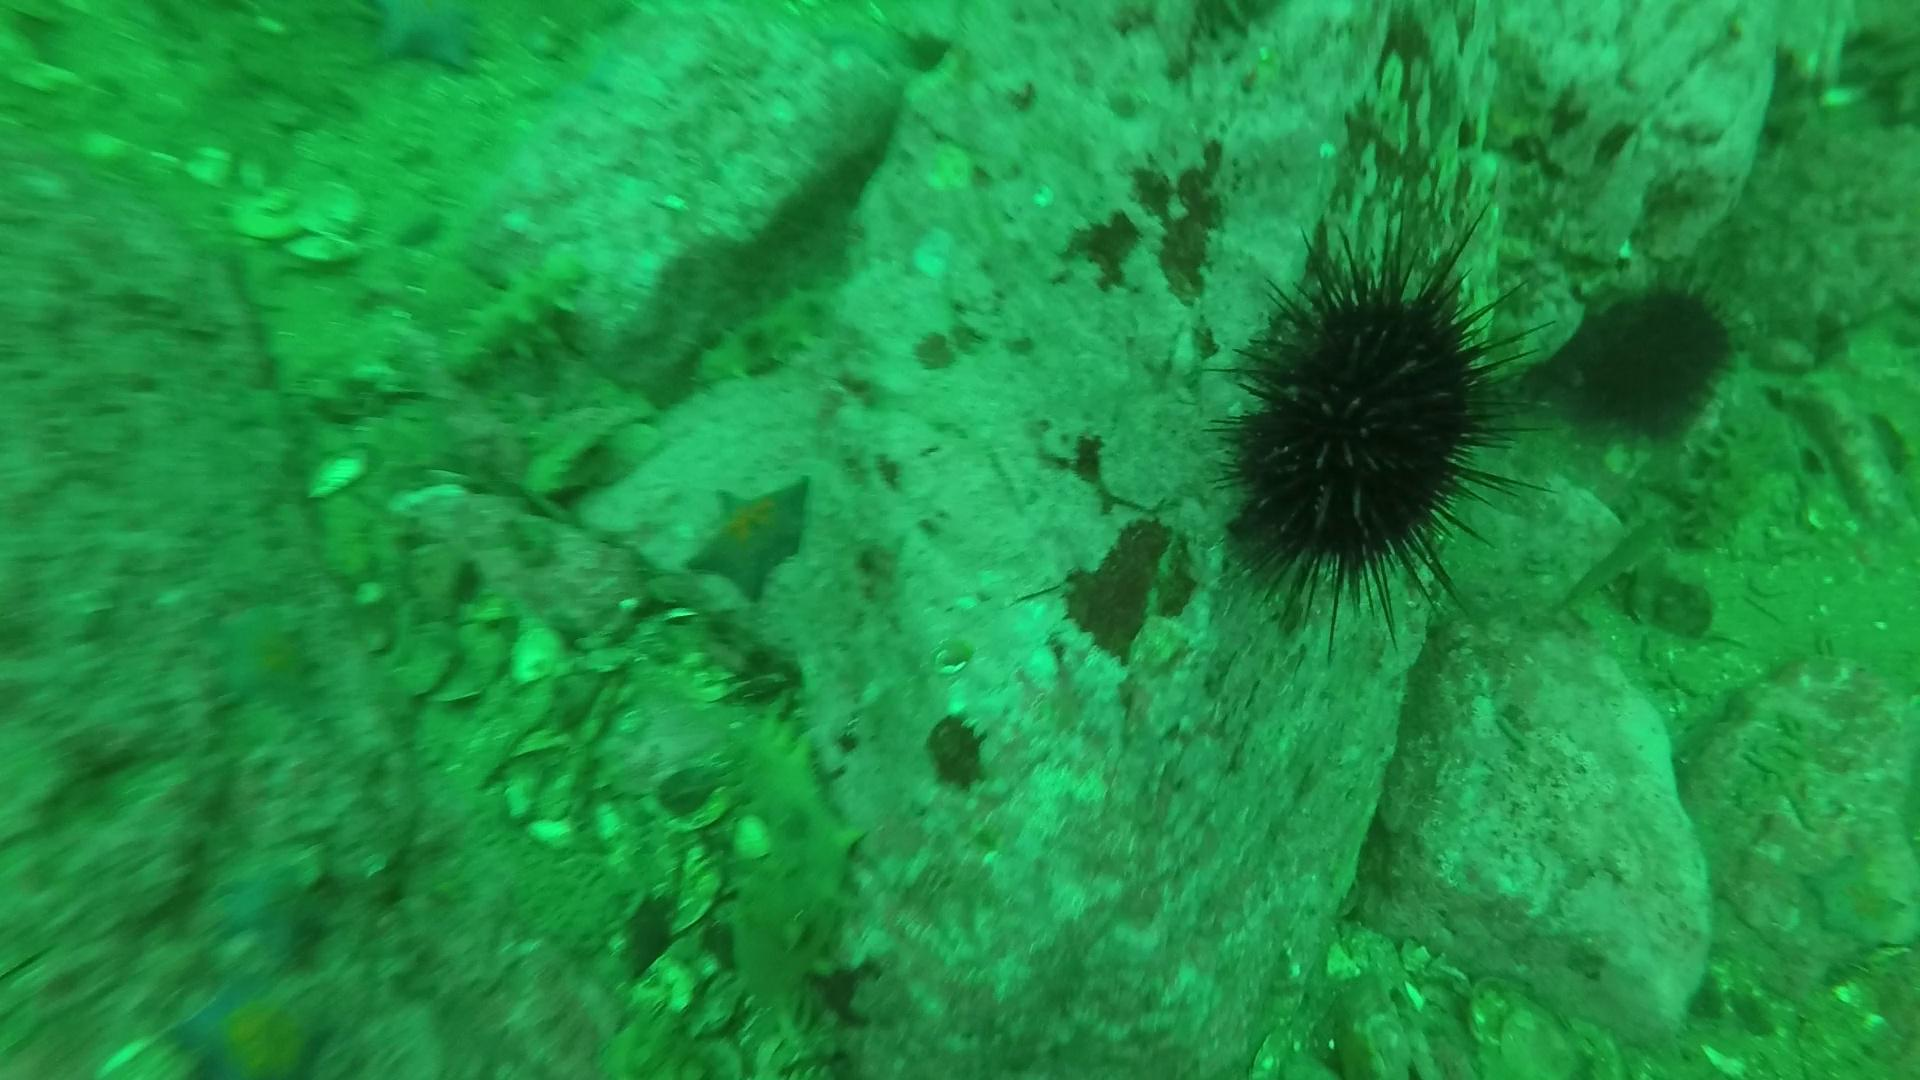urchin: (1207, 225, 1548, 637), (1578, 272, 1754, 455)
